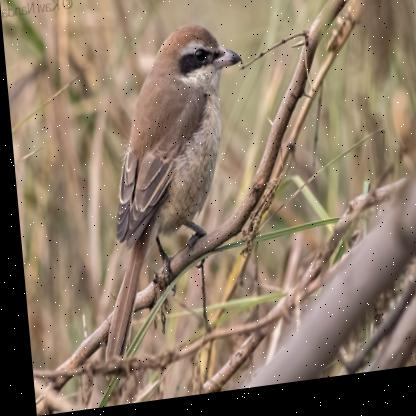Burung: (71, 25, 259, 378)
